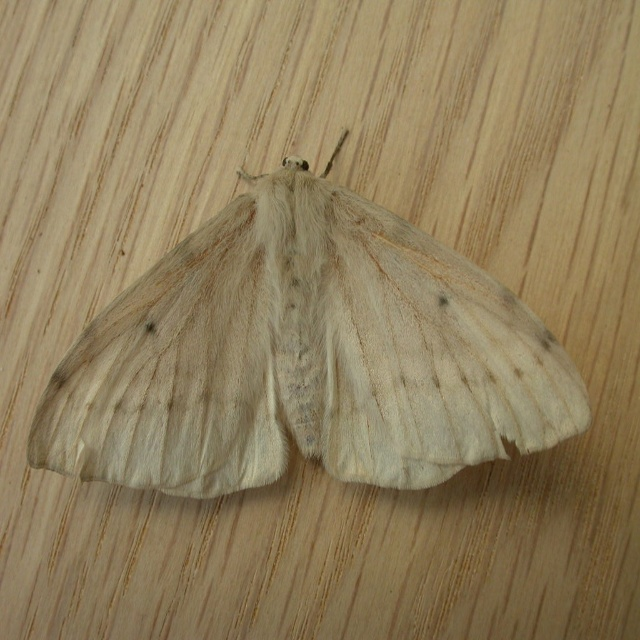Butterfly: (15, 112, 598, 526)
